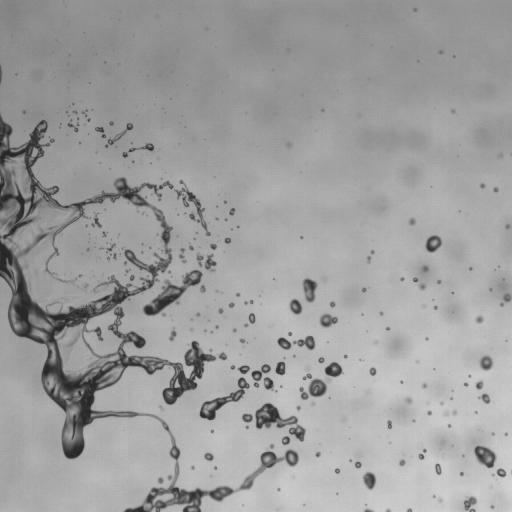droplet: (299, 362, 343, 399), (251, 364, 275, 391), (474, 445, 496, 468), (196, 253, 216, 272), (302, 278, 317, 302), (425, 235, 441, 252), (319, 313, 337, 327), (362, 471, 376, 489), (479, 355, 493, 370), (289, 299, 302, 314), (464, 496, 477, 511), (106, 243, 117, 259), (499, 293, 511, 306), (244, 313, 255, 327), (275, 361, 285, 375), (92, 212, 101, 227), (68, 121, 79, 131), (479, 393, 490, 403), (494, 468, 506, 477), (237, 365, 250, 373), (169, 328, 176, 340), (204, 452, 213, 461), (475, 380, 483, 389), (435, 463, 441, 474), (475, 315, 483, 323), (282, 436, 290, 444), (369, 367, 376, 375), (405, 397, 412, 404), (354, 461, 361, 468), (409, 218, 415, 225), (419, 283, 425, 290), (82, 284, 88, 291), (399, 459, 405, 466), (224, 237, 230, 243), (210, 243, 216, 249), (318, 357, 324, 363), (157, 477, 163, 483), (229, 208, 234, 215), (200, 285, 205, 292), (387, 420, 391, 428), (422, 266, 428, 271), (330, 301, 335, 307), (228, 302, 234, 307), (239, 338, 245, 343), (421, 383, 427, 388), (493, 187, 498, 192), (218, 308, 223, 313), (334, 468, 339, 473), (189, 244, 193, 250), (480, 183, 484, 188), (102, 231, 106, 236), (130, 275, 134, 280), (413, 277, 417, 282), (230, 365, 235, 369), (296, 405, 300, 410), (427, 410, 431, 415), (444, 411, 448, 416), (452, 410, 456, 415), (315, 452, 320, 456), (367, 256, 370, 262), (406, 508, 412, 511), (451, 109, 455, 113), (109, 121, 113, 125), (505, 224, 509, 228), (370, 250, 374, 254), (125, 269, 129, 273), (362, 287, 366, 291), (159, 405, 163, 409), (438, 498, 442, 502), (22, 110, 26, 113), (499, 153, 502, 157), (400, 277, 404, 280), (437, 280, 441, 283), (434, 305, 437, 309), (464, 382, 467, 386), (191, 465, 194, 469), (73, 110, 76, 113), (83, 111, 86, 114), (78, 274, 81, 277), (236, 293, 239, 296), (196, 313, 199, 316), (386, 327, 389, 330), (233, 328, 236, 331), (288, 332, 291, 335), (374, 340, 377, 343), (460, 472, 463, 475), (414, 8, 416, 11), (439, 51, 442, 53), (87, 118, 89, 121), (215, 217, 217, 220), (380, 312, 383, 314), (215, 326, 218, 328), (344, 355, 347, 357), (440, 402, 443, 404), (210, 430, 213, 432), (492, 432, 494, 435), (504, 433, 507, 435), (491, 505, 493, 508), (288, 144, 290, 146), (143, 212, 145, 214), (312, 402, 314, 404), (214, 467, 216, 469), (433, 495, 435, 497)
ligament: (0, 115, 294, 511), (143, 269, 202, 316), (242, 402, 305, 441), (199, 377, 249, 419), (106, 123, 132, 147), (277, 336, 315, 350), (139, 143, 154, 151), (122, 148, 135, 157), (95, 127, 105, 138), (179, 248, 186, 263), (418, 448, 426, 459), (363, 507, 374, 511), (0, 65, 2, 84), (51, 301, 57, 304), (244, 301, 250, 304), (385, 509, 391, 511)
